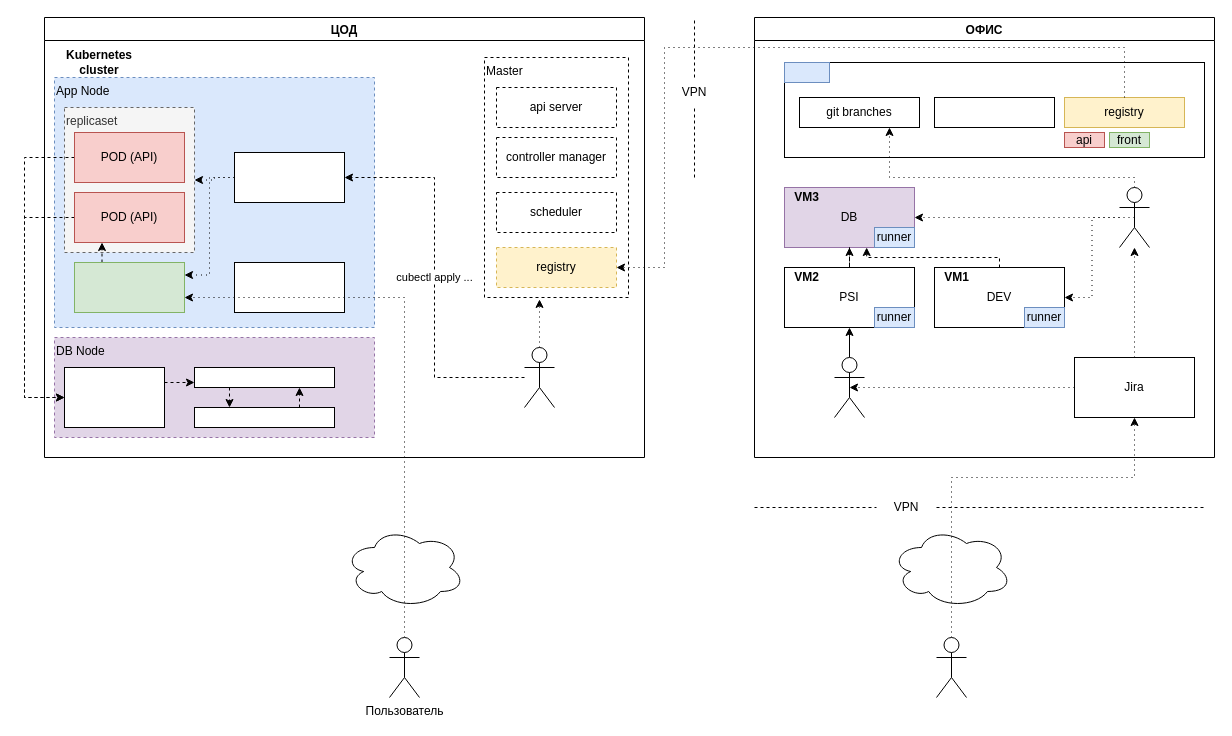
The diagram is 1232 pixels wide and 736 high, and some of its shapes have lost their labels. The centre of each missing label's shape, as x and y in pixels:
"Deployment" goes at pixel 289 177.
"Gitlab" goes at pixel 807 72.
"Ingress" goes at pixel 289 287.
"persistent volume" goes at pixel 264 417.
"persistent volume claim" goes at pixel 264 377.
"pipelines" goes at pixel 994 112.
"POD (Front)" goes at pixel 129 287.
"StatefulSet (Production DB)" goes at pixel 114 397.
"Администратор (VPN)" goes at pixel 539 377.
"Разработчик" goes at pixel 1134 217.
"Руководитель проекта" goes at pixel 951 667.
"Тестировщик" goes at pixel 849 387.
